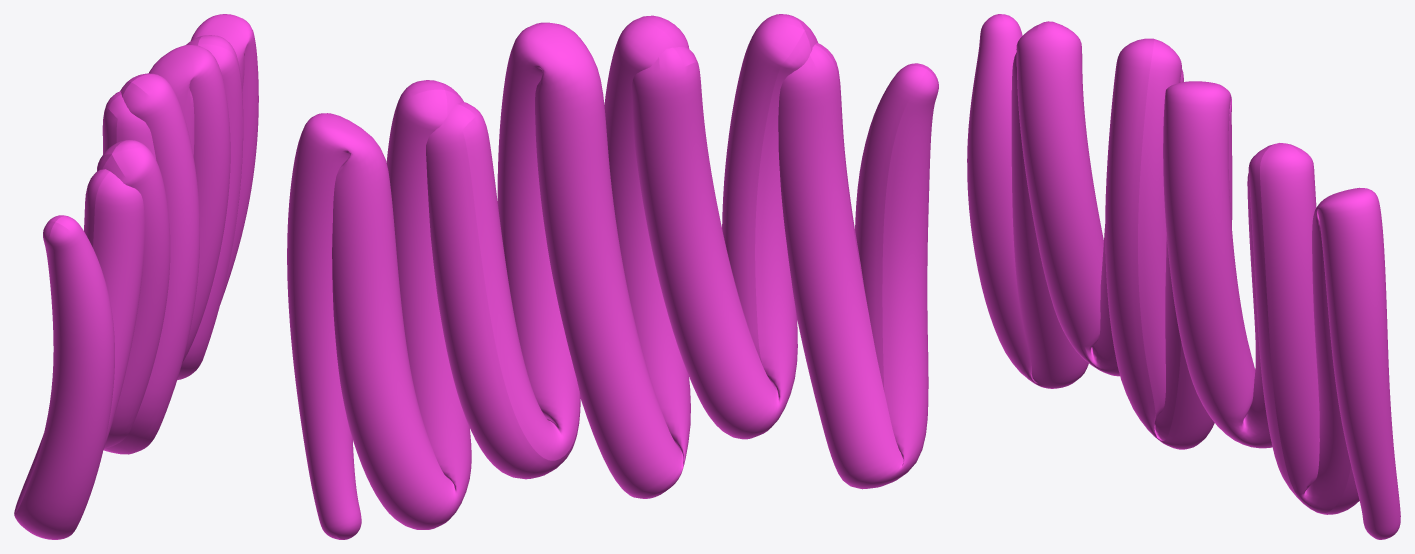
File: rossner_icc_drawing_01.fbx
3 views of the same model, side by side, from view 1: azimuth 30°, elevation 25°; view 2: azimuth 150°, elevation 25°; view 3: azimuth 270°, elevation 25° (orthographic). The views are drawn at different scales.
Visible parts, largest first — view 1: icc_drawing_01; view 2: icc_drawing_01; view 3: icc_drawing_01.
Part boxes in pixels (<box>): icc_drawing_01: <box>14,14,258,539</box>; icc_drawing_01: <box>287,14,938,539</box>; icc_drawing_01: <box>967,14,1400,539</box>.
Size of the model in its own units: 794 by 788 by 740.
